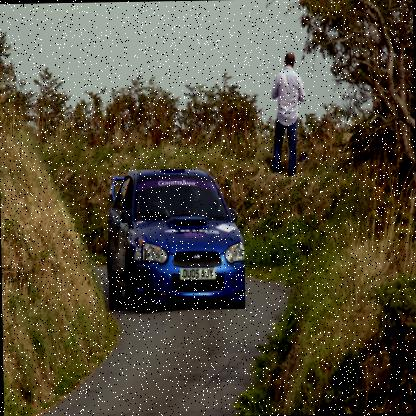Car: (107, 168, 245, 312)
